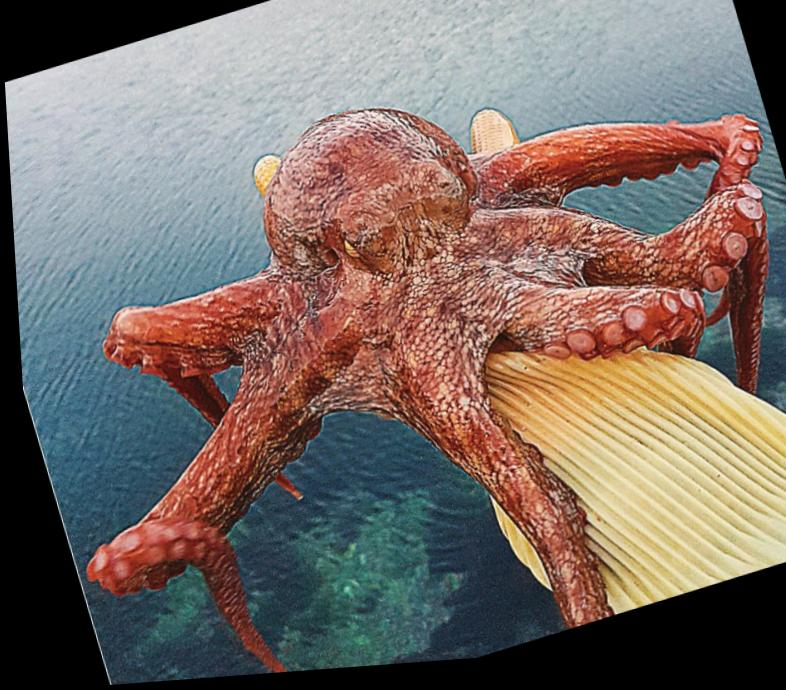Cephalopod: (79, 114, 765, 677)
